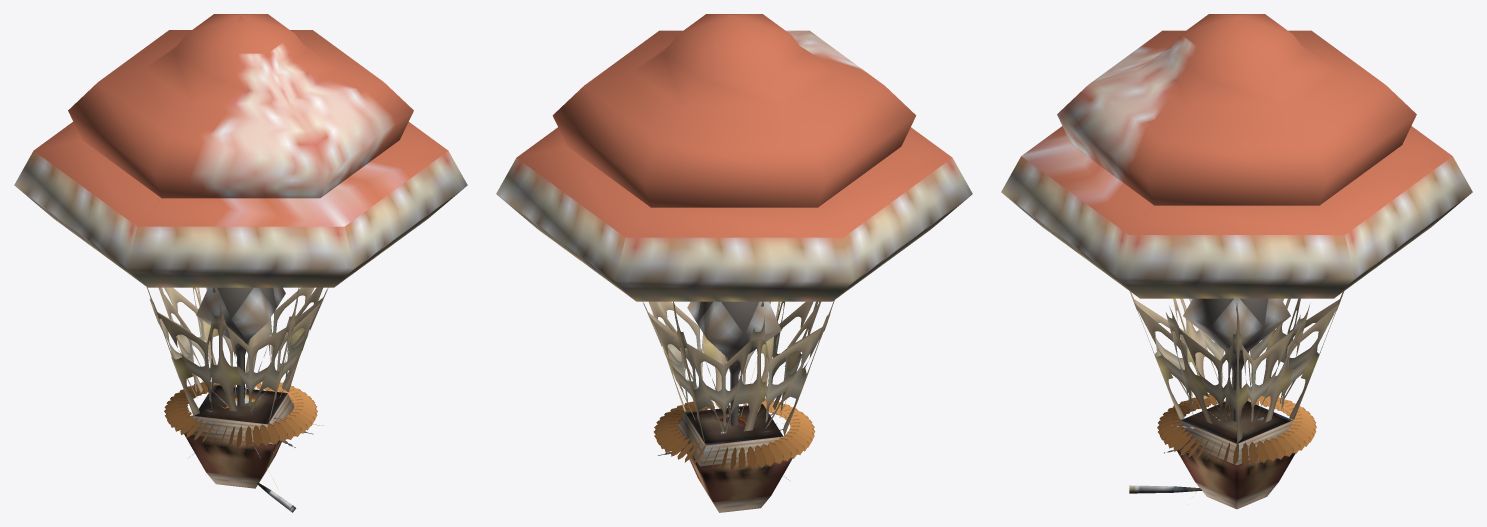
3 renders of one model, left to right at view 1: azimuth 30°, elevation 25°; view 2: azimuth 150°, elevation 25°; view 3: azimuth 270°, elevation 25°, orthographic. The views are drawn at different scales.
Bounding box in the file's own units: 2576 × 3401 × 2974.
8 materials, 7 textured.
